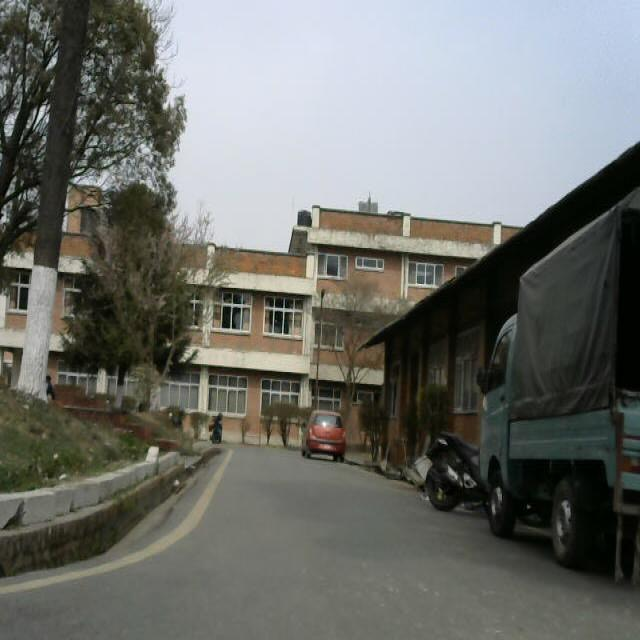Buildings: (222, 176, 456, 391)
Car: (308, 397, 360, 465)
Road: (9, 456, 640, 640)
Vehicle: (472, 174, 640, 576)
trees: (2, 4, 186, 405), (82, 172, 214, 407)
